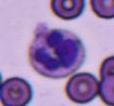N: (28, 28, 85, 78)
